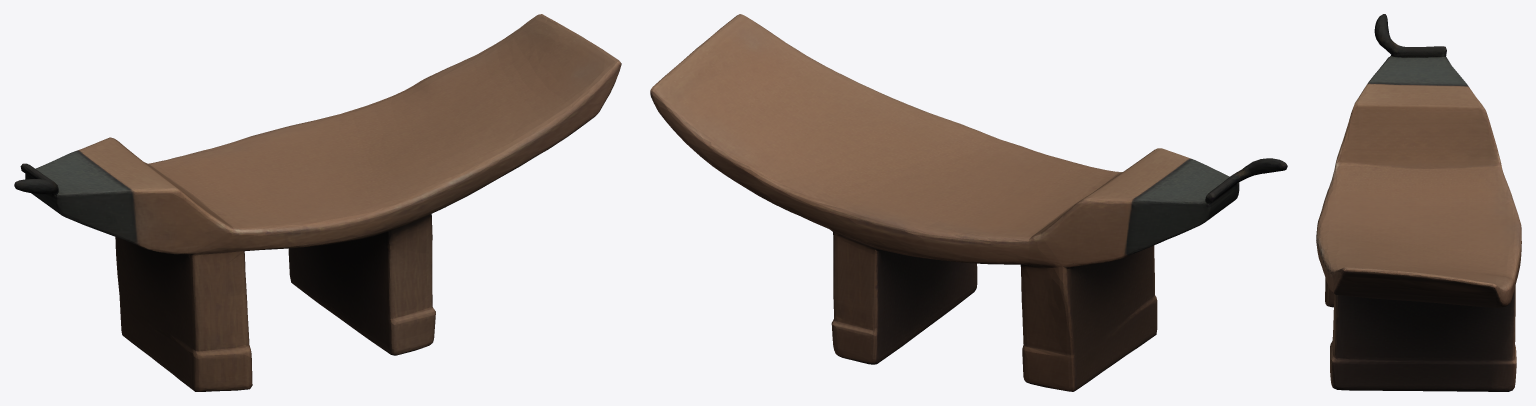
File: source.glb
3 renders of one model, left to right at view 1: azimuth 30°, elevation 25°; view 2: azimuth 150°, elevation 25°; view 3: azimuth 270°, elevation 25°, orthographic. The views are drawn at different scales.
Parts seen in each view (by area): view 1: world; view 2: world; view 3: world.
Part boxes in pixels (x1,y1,x2,y2): world: (14, 14, 621, 391); world: (650, 14, 1287, 391); world: (1316, 14, 1521, 391).
Bounding box in the file's own units: 1 × 0.3899 × 0.342.
1 material, 1 textured.
